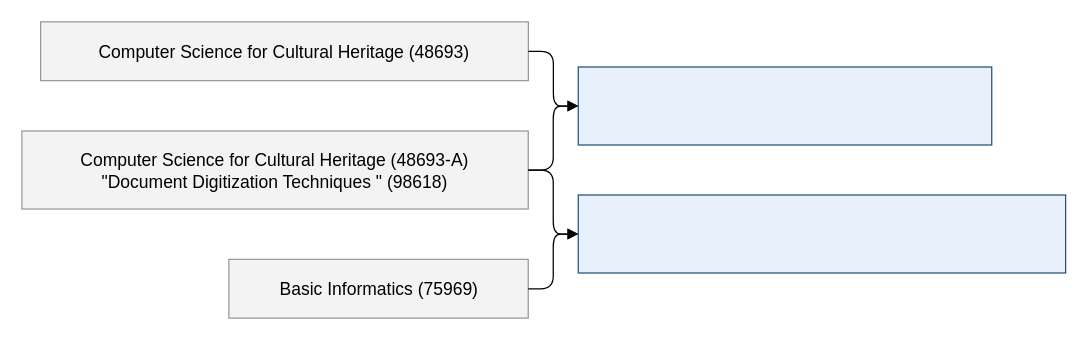
The diagram is 1088 pixels wide and 340 high, and some of its shapes have lost their labels. Here are the shapes that lost their labels. From the top down, the centre of each, then its label:
At point (784, 105): "Digital Document Imaging Foundations 3 ECTS".
At point (821, 233): "Digital Document Imaging Analysis and Display 3 ECTS".
